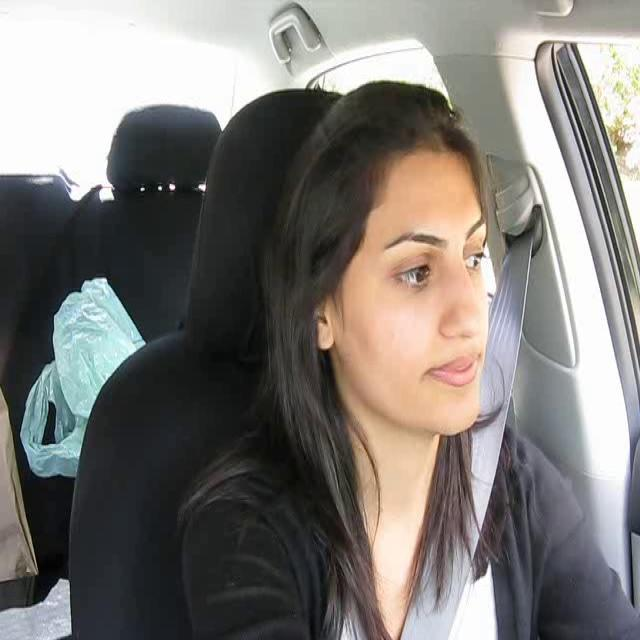close: (421, 342, 486, 390)
